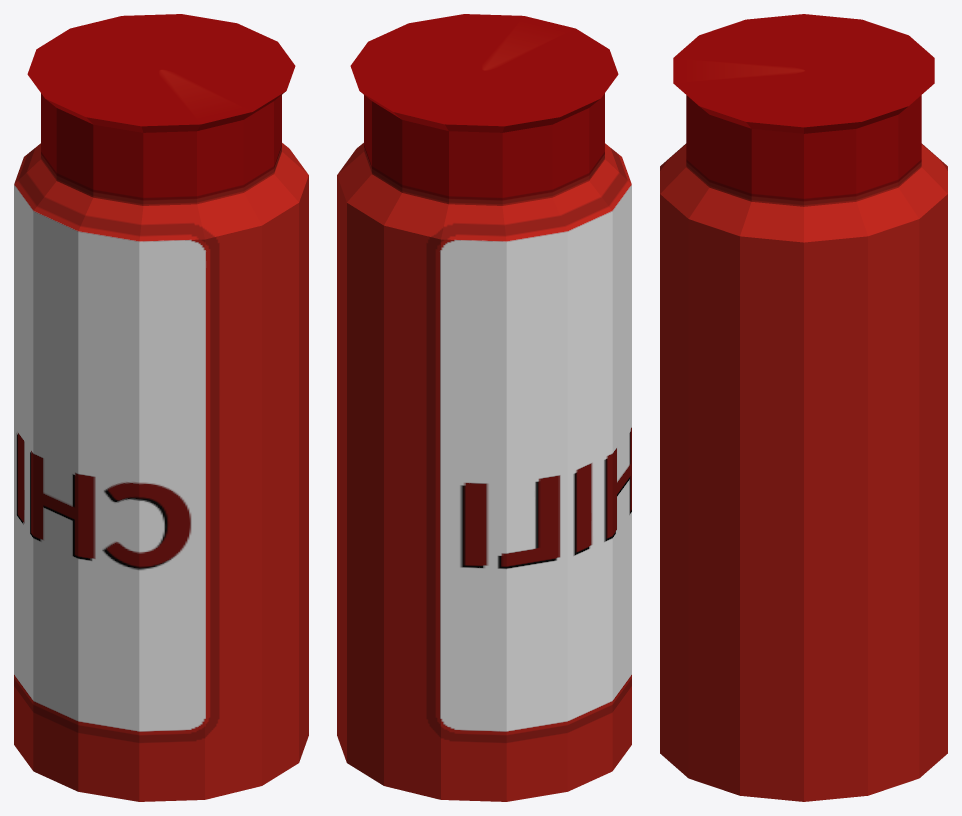
Rendered from spice_chili.obj.
3 views of the same model, side by side, from view 1: azimuth 30°, elevation 25°; view 2: azimuth 150°, elevation 25°; view 3: azimuth 270°, elevation 25° (orthographic).
Visible parts, largest first — view 1: spice_chili; view 2: spice_chili; view 3: spice_chili.
Part boxes in pixels (bbox=[...]): spice_chili: bbox=[14, 14, 308, 801]; spice_chili: bbox=[337, 14, 631, 801]; spice_chili: bbox=[660, 14, 947, 801].
Size of the model in its own units: 0.044 by 0.11 by 0.0429.
1 material, 1 textured.
